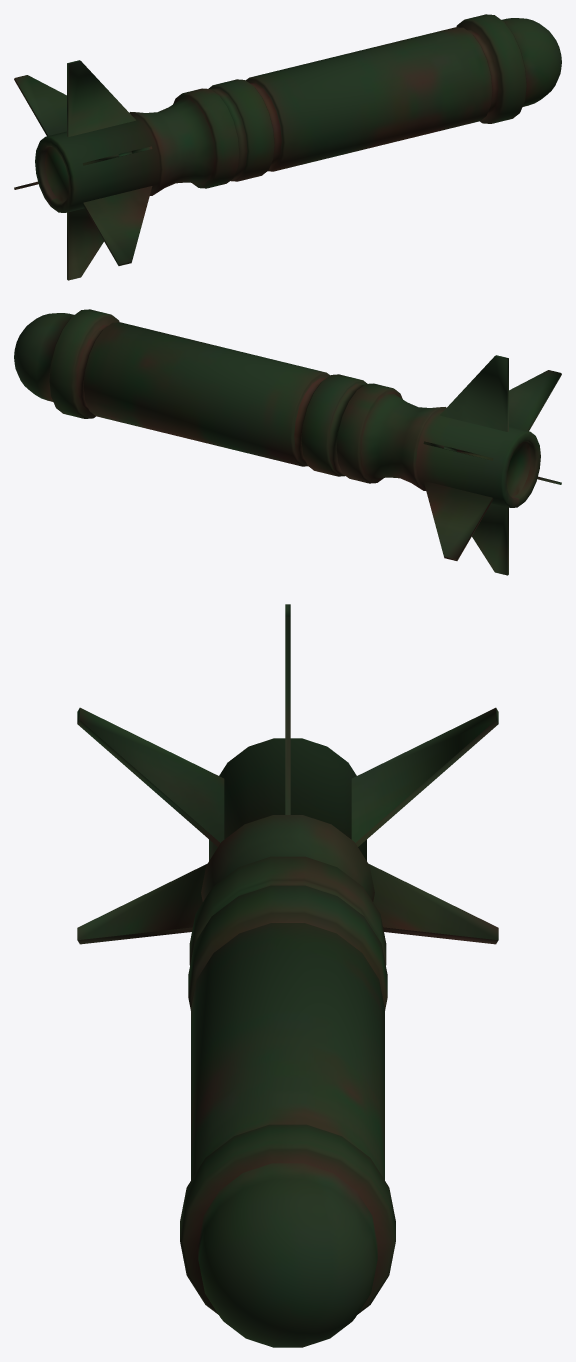
Rendered from dPVCvXP-S58.glb.
3 renders of one model, top to bottom at view 1: azimuth 30°, elevation 25°; view 2: azimuth 150°, elevation 25°; view 3: azimuth 270°, elevation 25°, orthographic. The views are drawn at different scales.
Parts seen in each view (by area): view 1: Missile_Q.001_Missile_Q.010; view 2: Missile_Q.001_Missile_Q.010; view 3: Missile_Q.001_Missile_Q.010.
Part boxes in pixels (x1,y1,x2,y2): Missile_Q.001_Missile_Q.010: (14,14,561,280); Missile_Q.001_Missile_Q.010: (14,309,561,575); Missile_Q.001_Missile_Q.010: (77,604,498,1347).
Bounding box in the file's own units: 2.43 × 0.9999 × 0.8816.
1 material, 1 textured.
